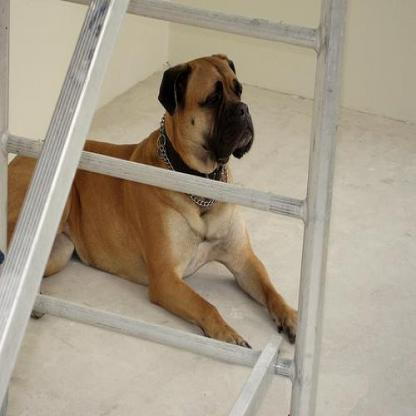bull_mastiff: (8, 53, 298, 347)
